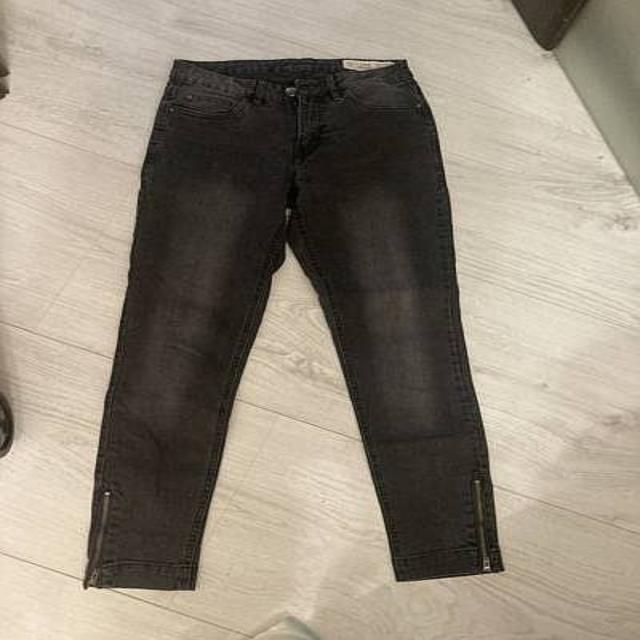TROUSER: (57, 39, 529, 598)
